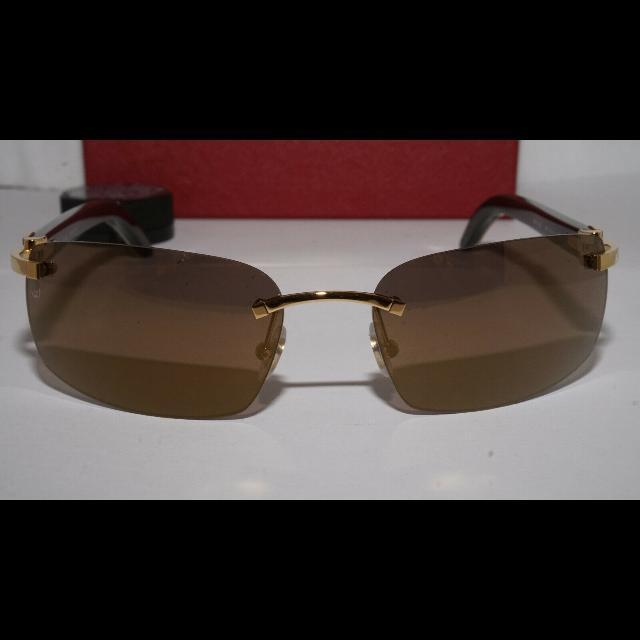glasses: (8, 192, 620, 420)
